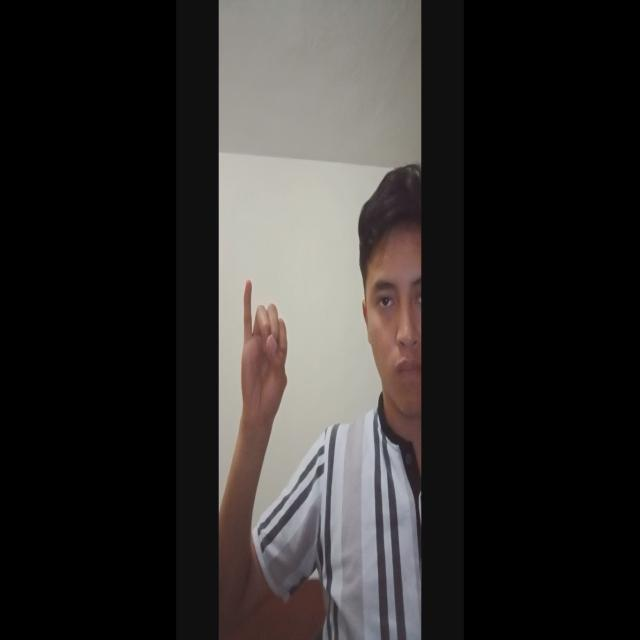I: (230, 273, 300, 432)
